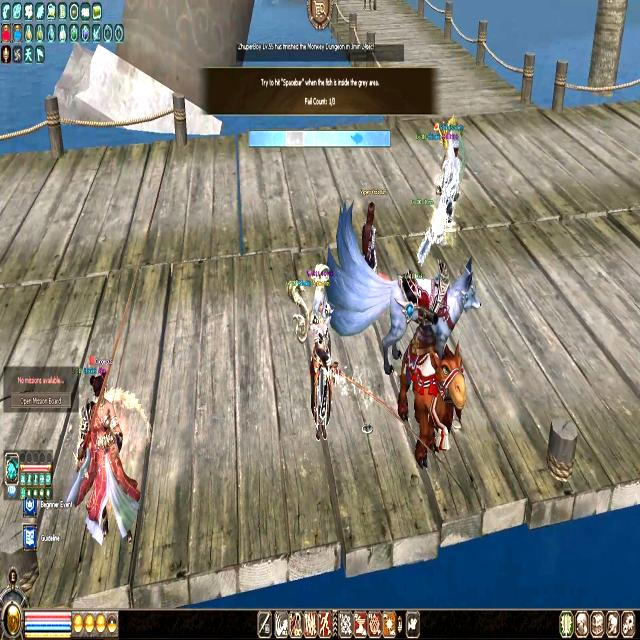fishes: (351, 132, 362, 144)
